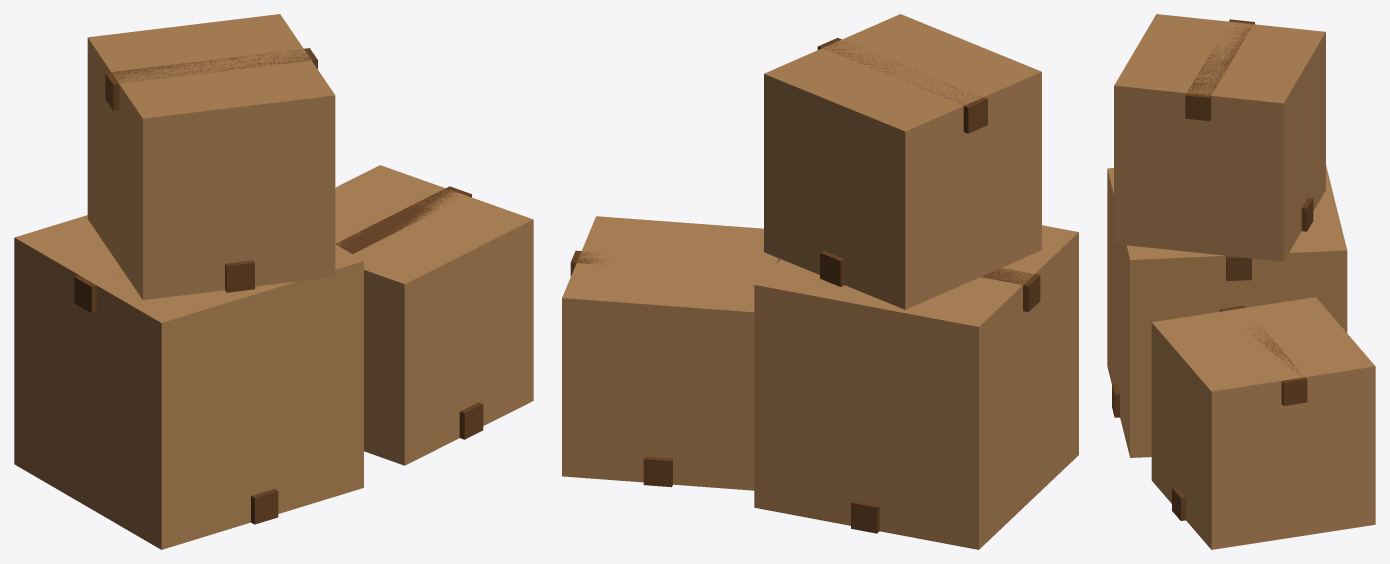
The model's file is crate_stack.glb.
3 renders of one model, left to right at view 1: azimuth 30°, elevation 25°; view 2: azimuth 150°, elevation 25°; view 3: azimuth 270°, elevation 25°, orthographic. The views are drawn at different scales.
Parts seen in each view (by area): view 1: stack; view 2: stack; view 3: stack.
Boxes of the visible parts, box(x1,y1,x2,y2) form: stack: box(14, 14, 533, 549); stack: box(562, 14, 1078, 549); stack: box(1107, 14, 1375, 549).
Size of the model in its own units: 1.26 by 1.08 by 0.7373.
